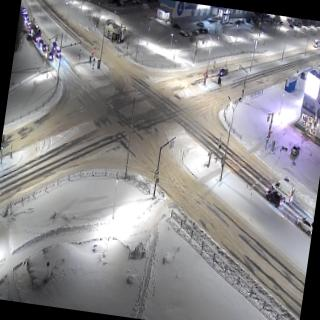large-vehicle: (28, 20, 42, 42), (312, 36, 320, 49)
small-vehicle: (293, 210, 314, 236), (264, 185, 284, 208), (217, 66, 228, 78), (50, 39, 58, 51), (46, 50, 54, 61), (56, 44, 62, 58), (36, 39, 44, 48), (42, 42, 48, 51)
